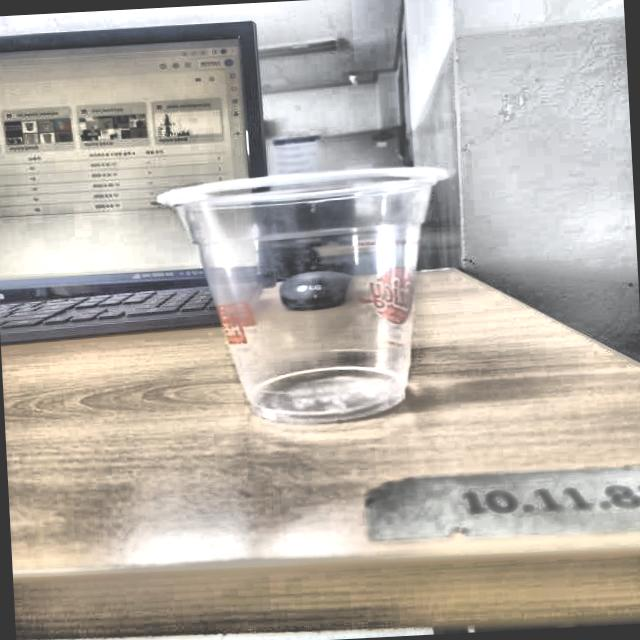plastic cup: (156, 164, 467, 430)
